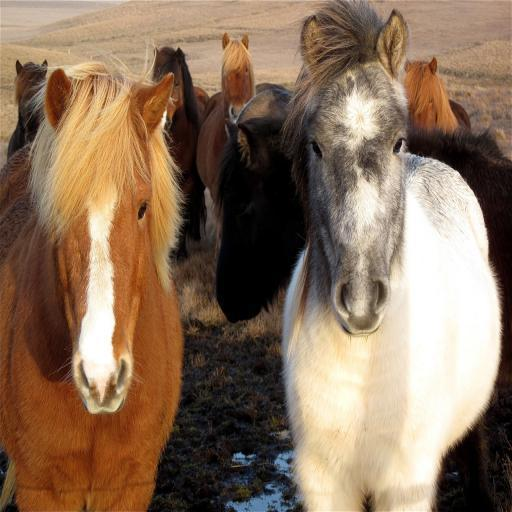horse: (210, 84, 512, 512), (280, 0, 502, 512), (0, 36, 187, 512), (192, 28, 254, 232), (152, 45, 210, 252), (399, 52, 472, 142), (5, 56, 51, 158)
